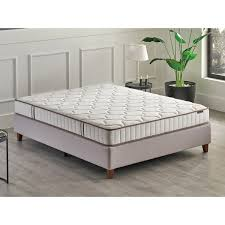bed-matress: (12, 83, 211, 147)
